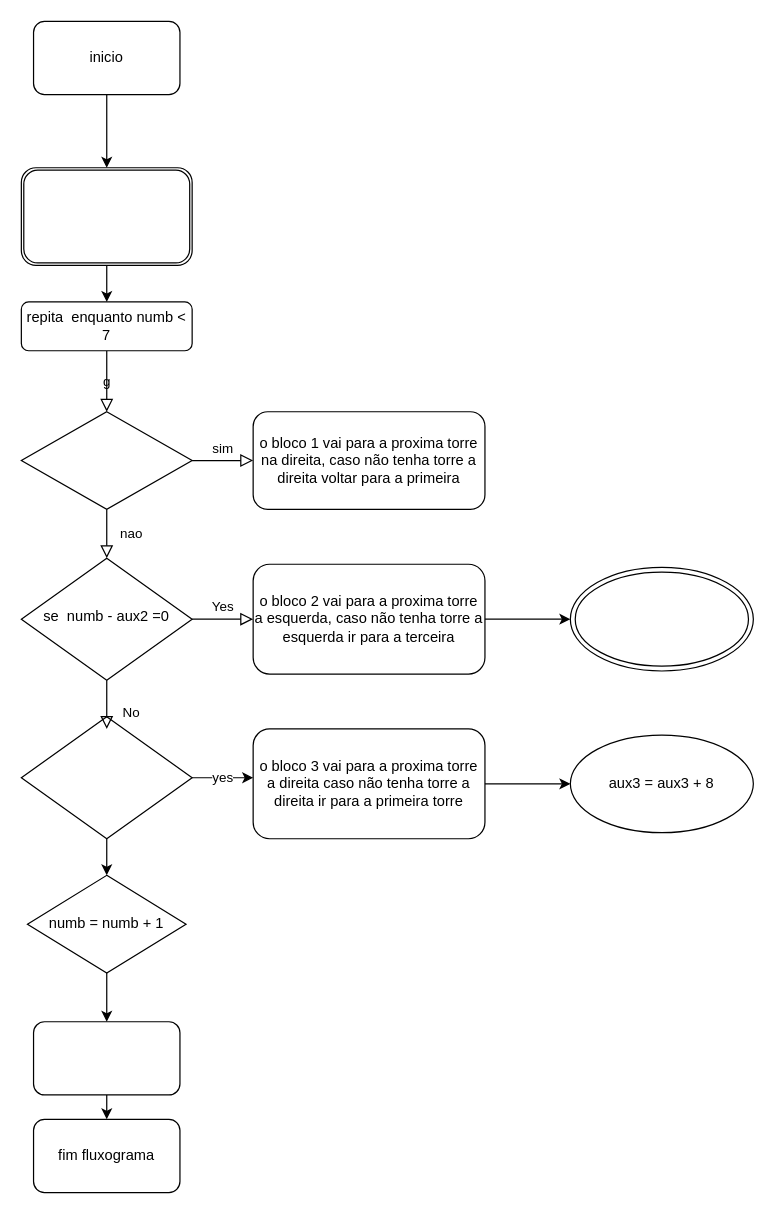
Image size: 775x1214. Some labels were removed from this diagram. Here are the shapes that lost their labels. From the top down, the box of each, then its label:
(20, 167, 192, 265): numb = 0 aux2 = 1 aux3 = 3
(20, 411, 192, 509): se o numb%2 = 0
(569, 566, 753, 671): aux2 = aux2 + 4
(20, 716, 192, 839): se numb - aux3 = 0
(32, 1021, 180, 1095): fim repita
